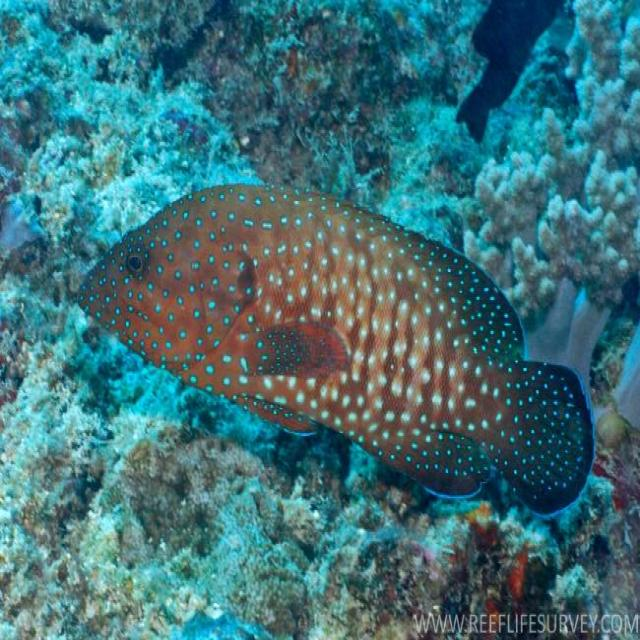ikan: (76, 179, 596, 517)
